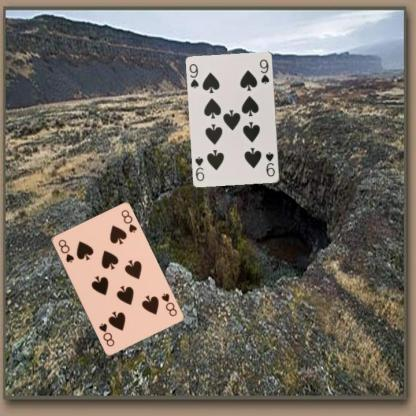8s: (158, 290, 178, 318), (56, 237, 75, 264)
9s: (187, 61, 200, 90), (264, 150, 276, 178)
